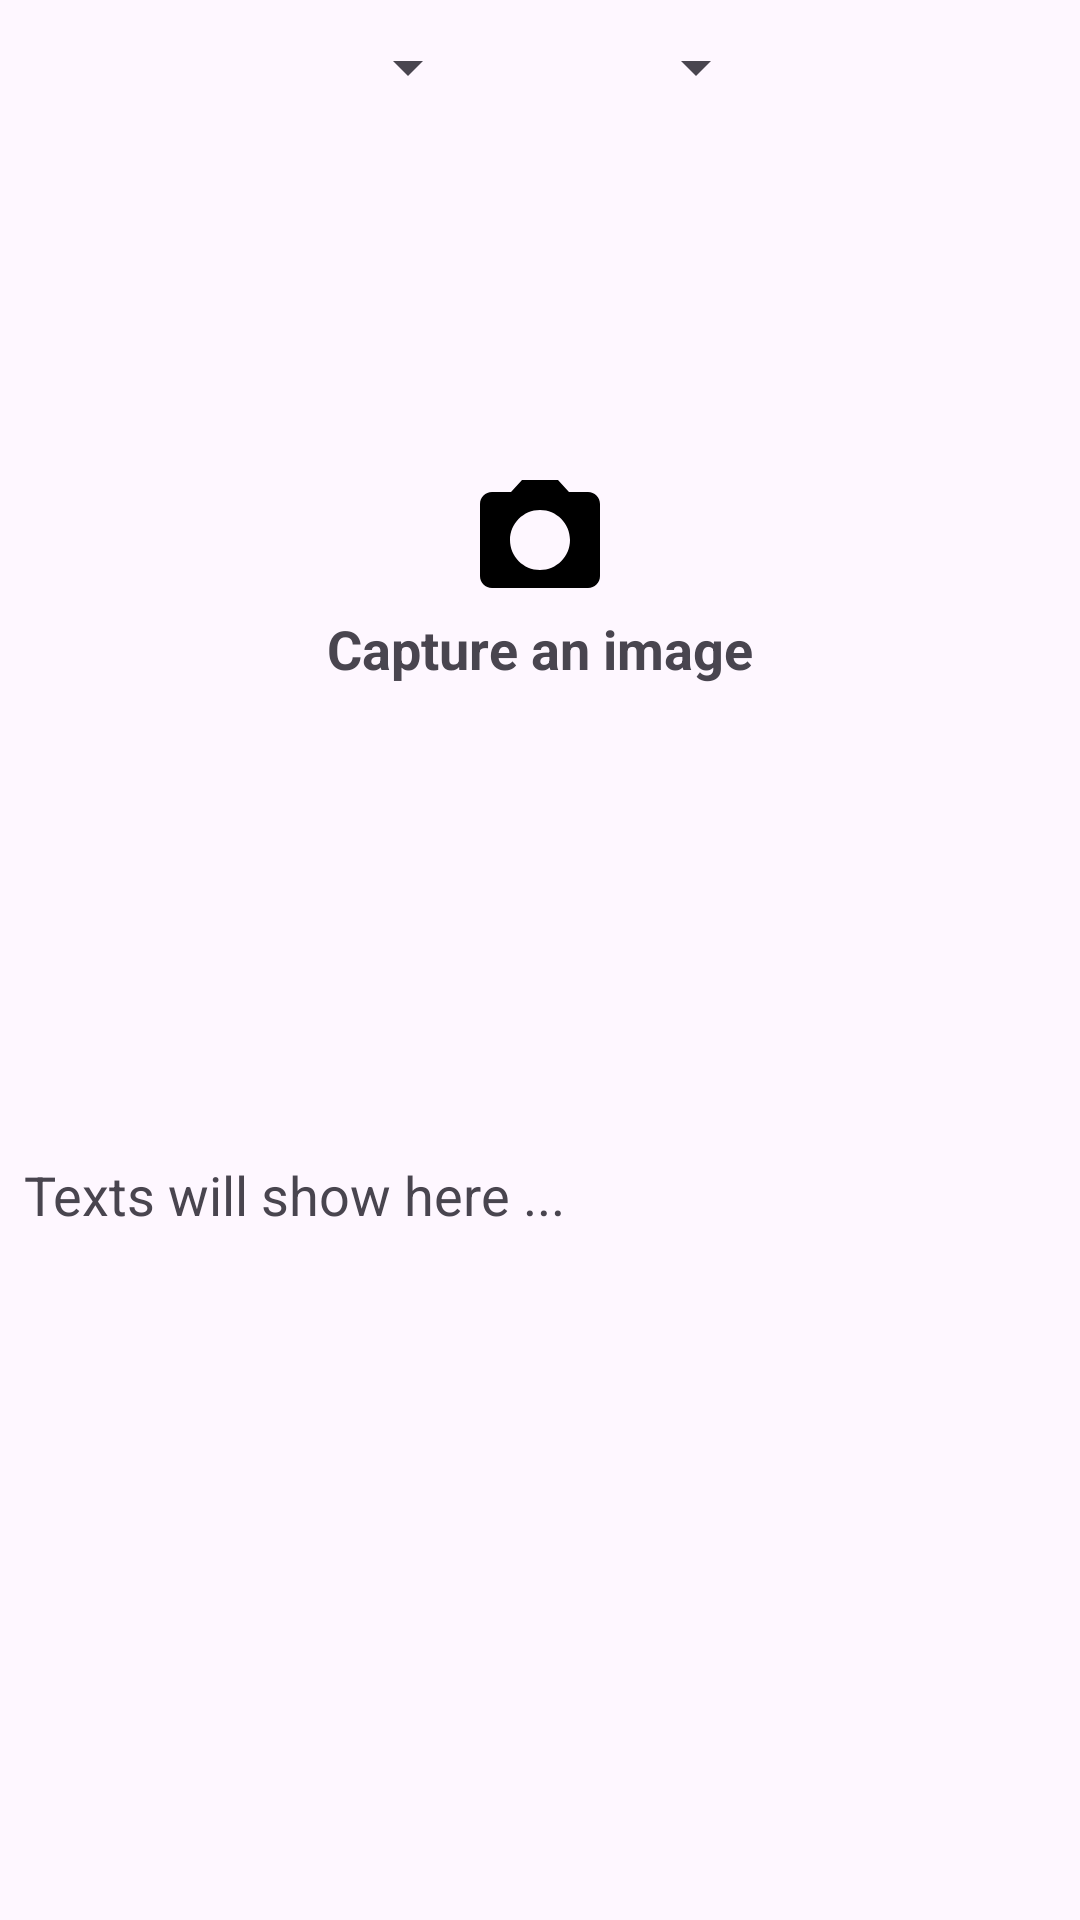

Locate icon controls on the screen. Image size 1080w x 1920h, boxes as (x1, y1, x2, y2).
photo camera: (480, 480, 600, 588)
